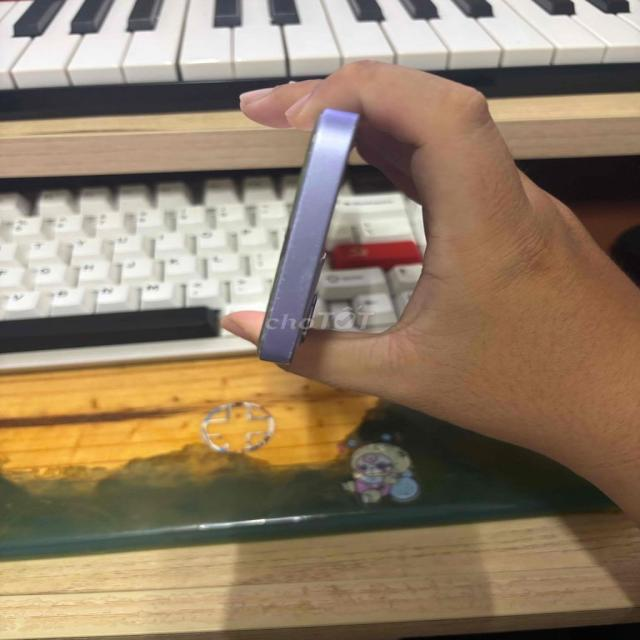scratch: (262, 180, 317, 353)
